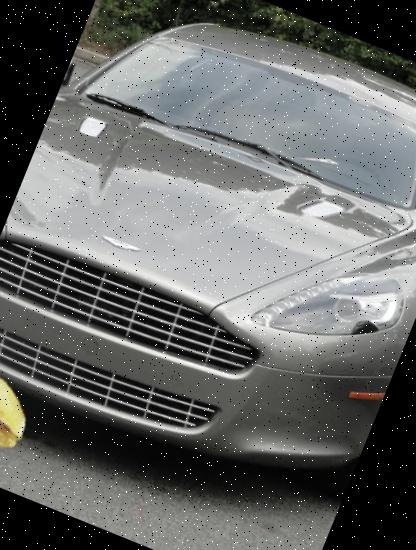Carambula: (0, 353, 47, 465)
